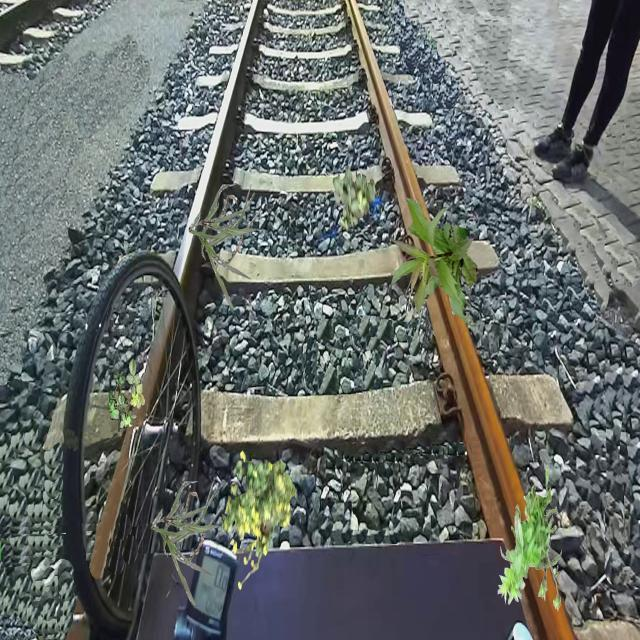Plant: (389, 197, 478, 327), (222, 451, 297, 591), (498, 469, 562, 612), (151, 481, 224, 606), (189, 184, 262, 308), (332, 166, 376, 232), (108, 359, 146, 432)
